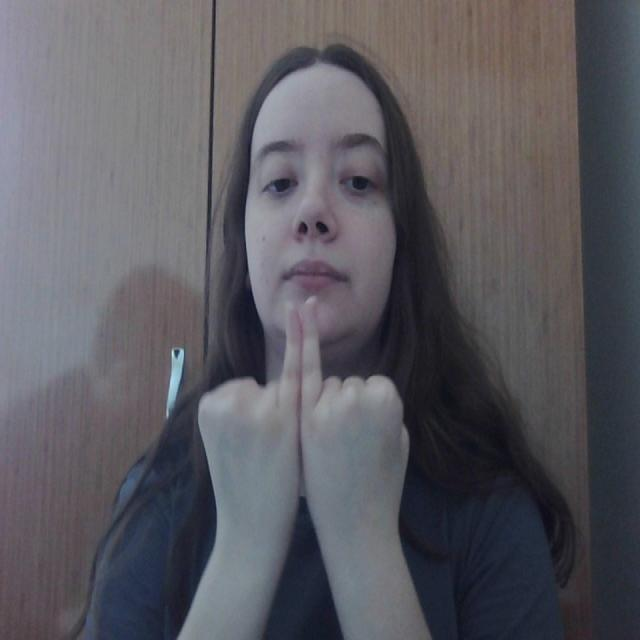Kardes: (188, 288, 416, 538)
